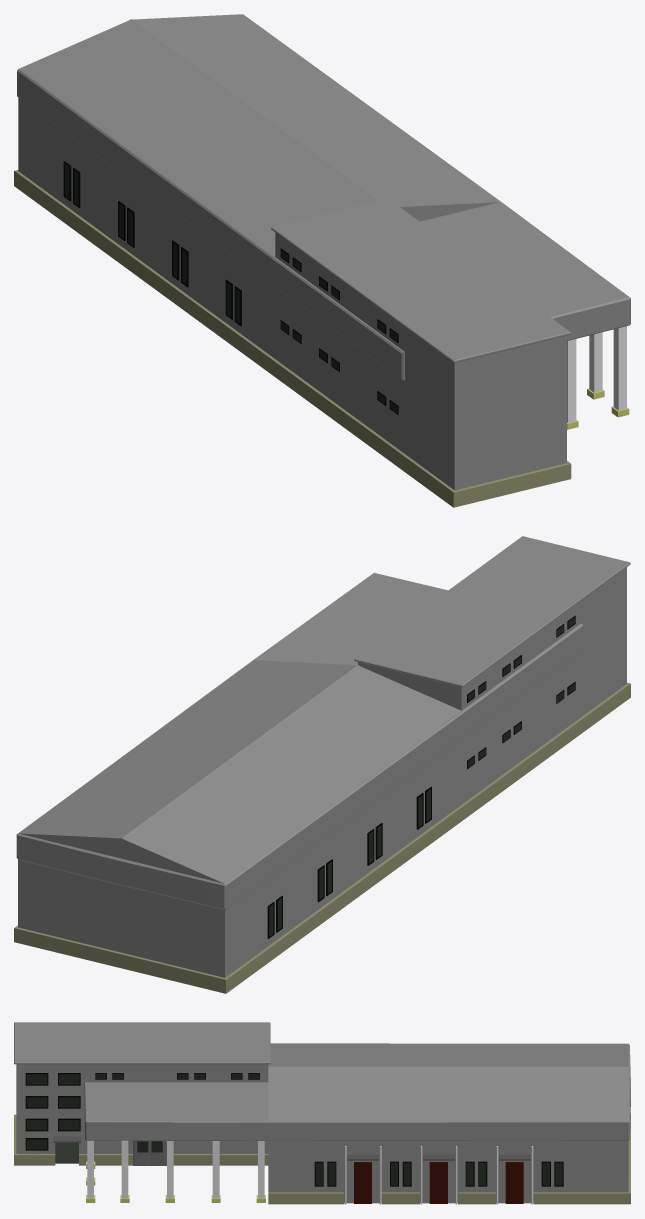
Rendered from hsck.fbx.
3 views of the same model, one above another, from view 1: azimuth 30°, elevation 25°; view 2: azimuth 150°, elevation 25°; view 3: azimuth 270°, elevation 25° (orthographic). The views are drawn at different scales.
Parts seen in each view (by area): view 1: polySurface1, polySurface2, pCube2, pCube5, pCube3; view 2: polySurface1, polySurface2; view 3: polySurface1, polySurface2, pCube23, pCube20, pCube22, pCube18, pCube5, pCube7, pCube2, pCube6, pCube8, pCube24 (+6 smaller).
Part boxes in pixels (x1,y1,x2,y2): polySurface1: (14,30,630,507); polySurface2: (19,14,499,256); pCube2: (611,326,629,417); pCube5: (587,332,604,399); pCube3: (567,339,578,429); polySurface1: (14,536,630,993); polySurface2: (18,660,460,883); polySurface1: (14,1022,630,1204); polySurface2: (268,1043,628,1120); pCube23: (133,1140,166,1165); pCube20: (429,1162,447,1203); pCube22: (505,1162,523,1203); pCube18: (354,1162,371,1203); pCube5: (120,1140,129,1202); pCube7: (211,1141,220,1202); pCube2: (86,1140,95,1202); pCube6: (165,1141,174,1202); pCube8: (256,1141,265,1202); pCube24: (25,1118,48,1131).
Bounding box in the file's own units: 8.61 × 5 × 27.11.
